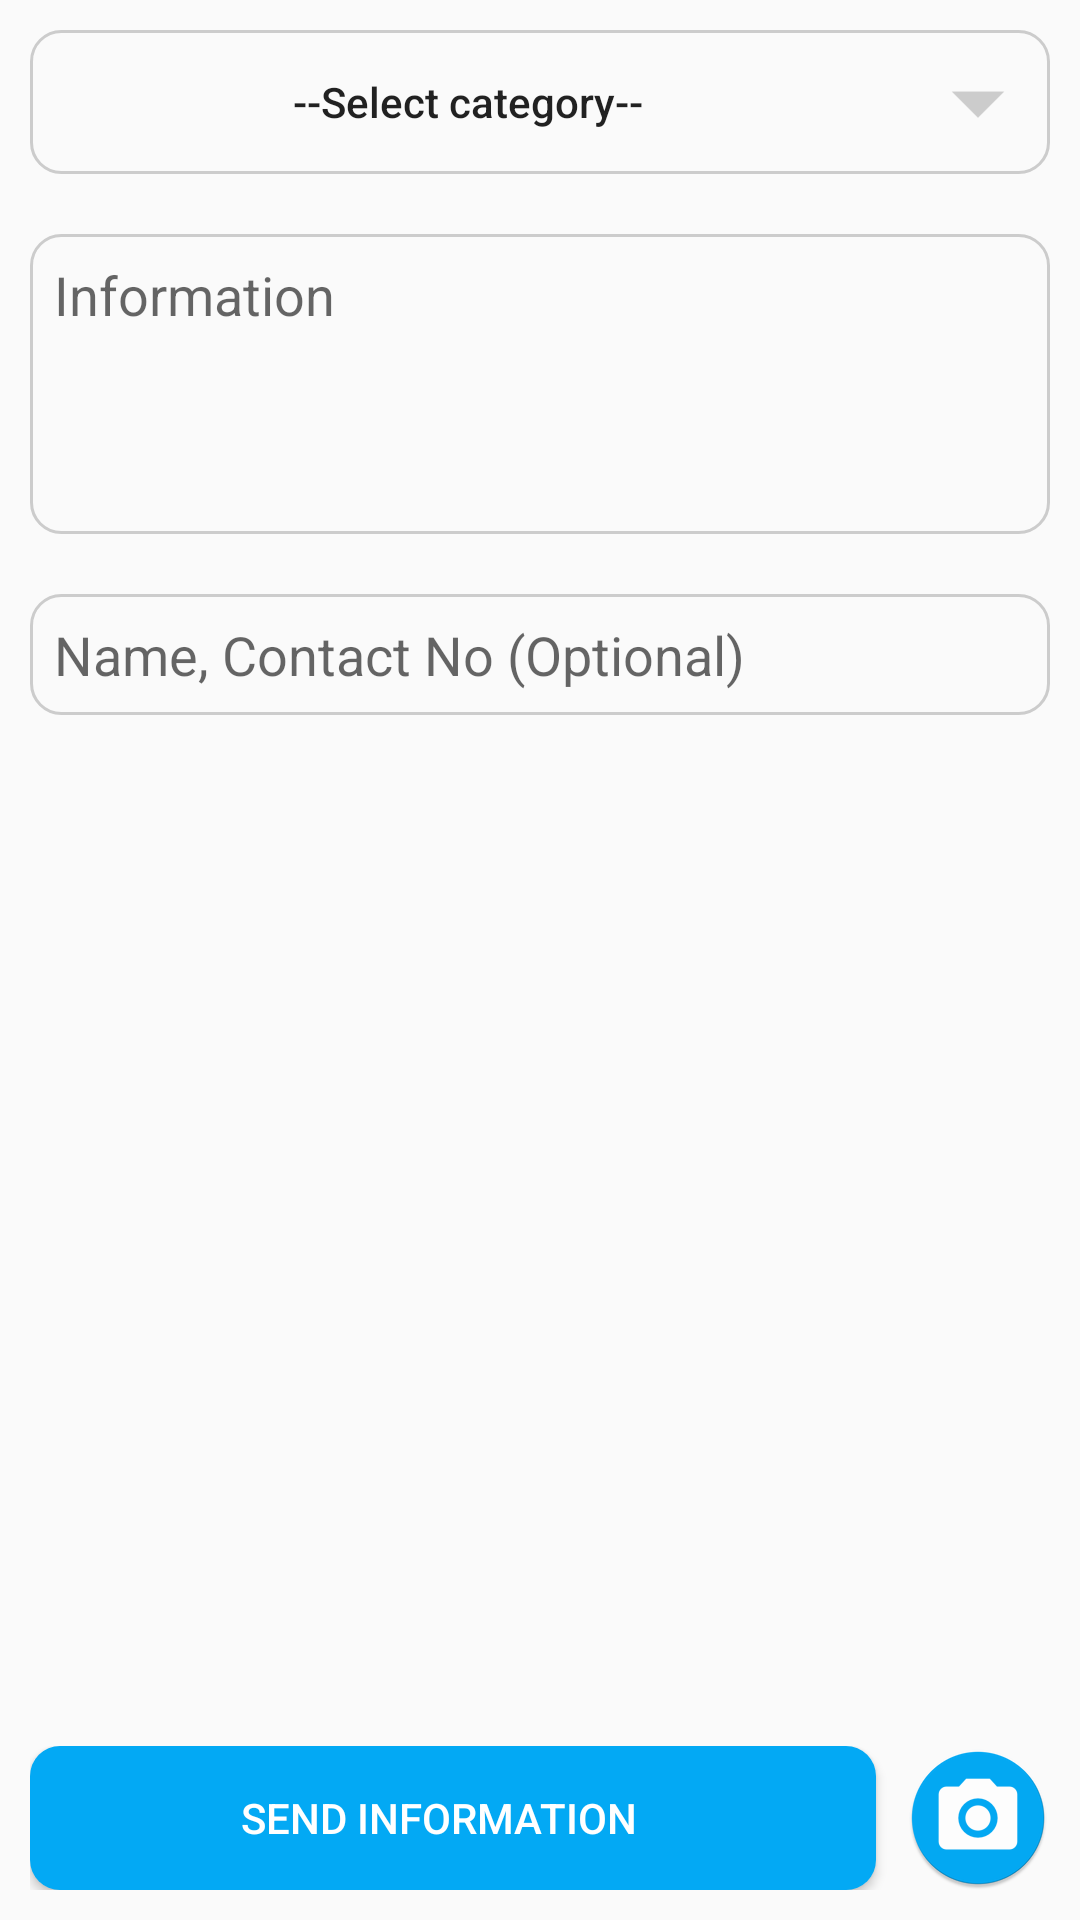

Icon click points for this 1080x1920 phone screenshot, format point (x, y):
camera: point (978, 1819)
